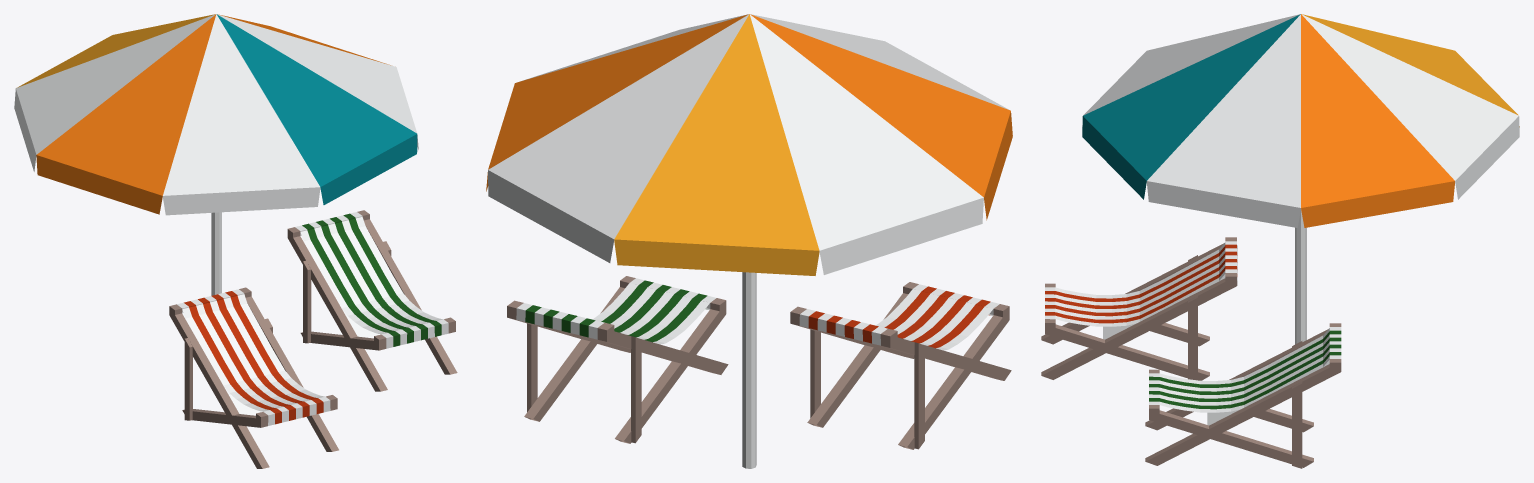
The model's file is M_yizi01.FBX.
3 views of the same model, side by side, from view 1: azimuth 30°, elevation 25°; view 2: azimuth 150°, elevation 25°; view 3: azimuth 270°, elevation 25° (orthographic). The views are drawn at different scales.
Visible parts, largest first — view 1: M_yizi01_buliao01, M_yizi01_ganzi01; view 2: M_yizi01_buliao01, M_yizi01_ganzi01; view 3: M_yizi01_buliao01, M_yizi01_ganzi01.
Boxes of the visible parts, x1,y1,x2,y2 form: M_yizi01_buliao01: (14,14,457,468); M_yizi01_ganzi01: (211,212,221,295); M_yizi01_buliao01: (486,14,1012,449); M_yizi01_ganzi01: (742,272,756,468); M_yizi01_buliao01: (1041,14,1519,468); M_yizi01_ganzi01: (1295,209,1306,344).
Bounding box in the file's own units: 5.03 × 4.68 × 5.5.
